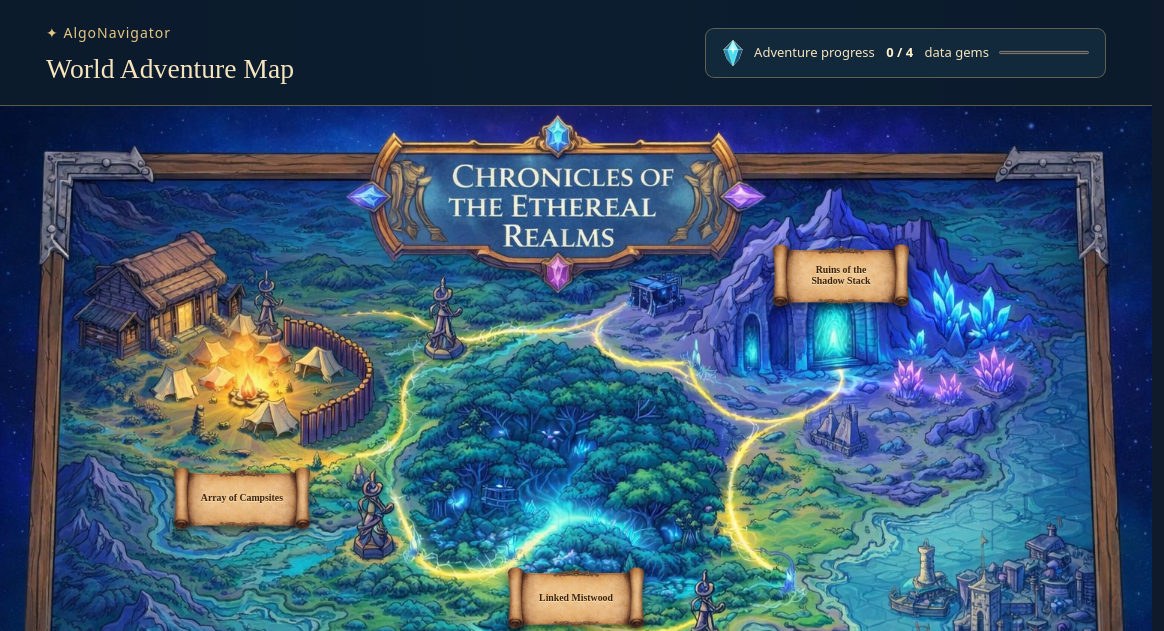
Test: App › opens the existing lesson from the Stack scroll
The image size is (1164, 631).
Click the button "Ruins of the Shadow Stack" at point(841, 275), box [772,244,910,306]
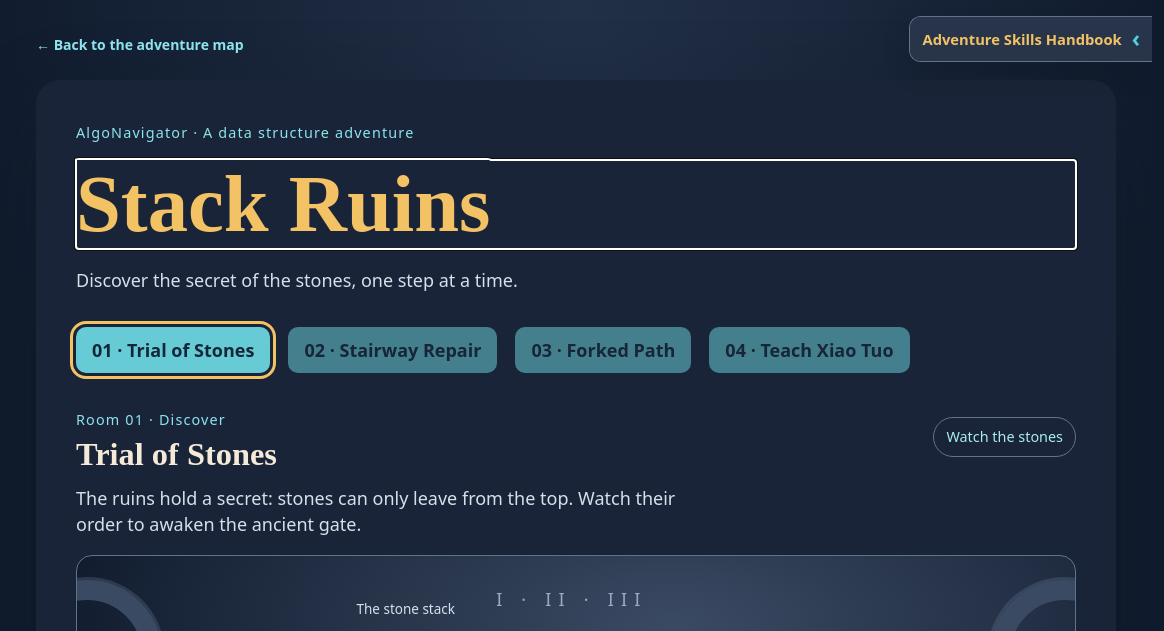
Check: the heading "Trial of Stones" is shown, box [76,441,277,467]
